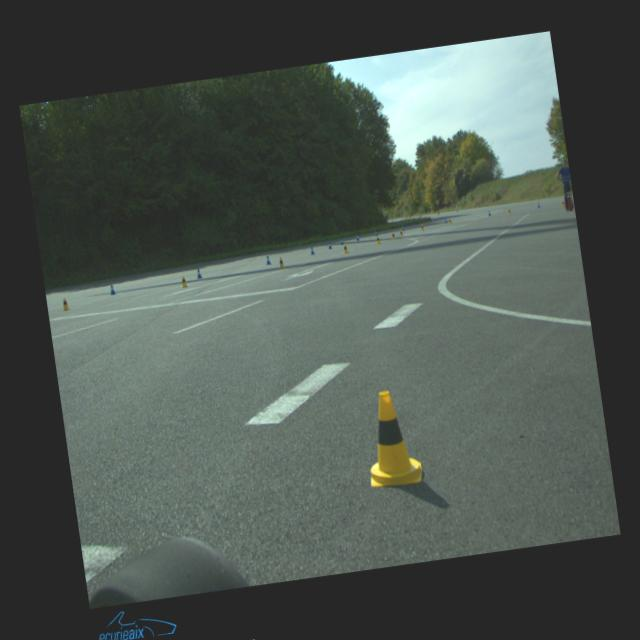blue_cone: (109, 284, 116, 294), (265, 254, 271, 264), (196, 268, 202, 278), (310, 247, 316, 255), (487, 210, 491, 216), (356, 234, 360, 240), (340, 238, 344, 244), (328, 243, 332, 249), (537, 203, 540, 208), (445, 218, 448, 223), (375, 232, 378, 236), (402, 226, 405, 230)
yellow_cone: (358, 388, 424, 488), (61, 297, 70, 310), (278, 257, 286, 269), (181, 276, 189, 288), (343, 243, 349, 253), (376, 236, 382, 244), (391, 232, 396, 240), (399, 230, 404, 237), (561, 200, 565, 207), (508, 208, 512, 214), (420, 225, 424, 231), (448, 219, 452, 224)
